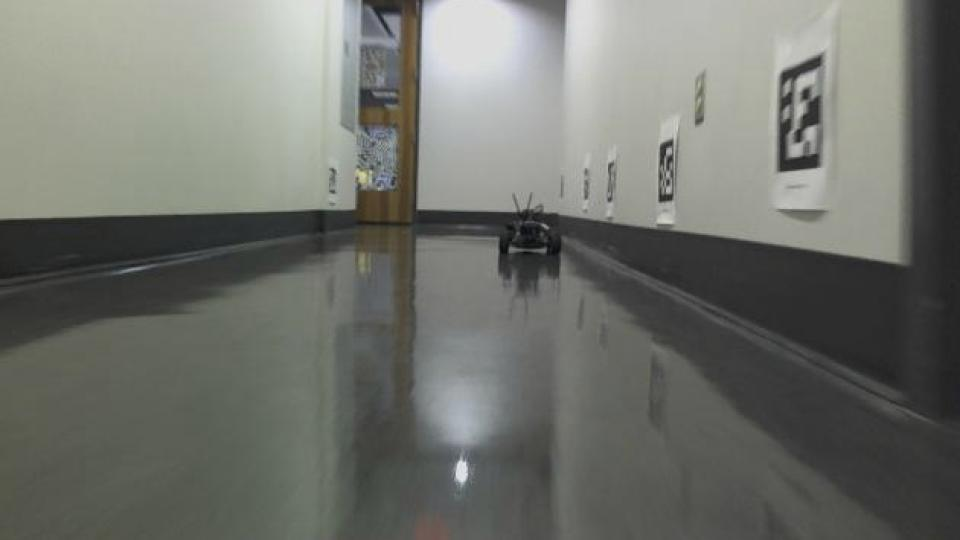car: (494, 189, 564, 261)
